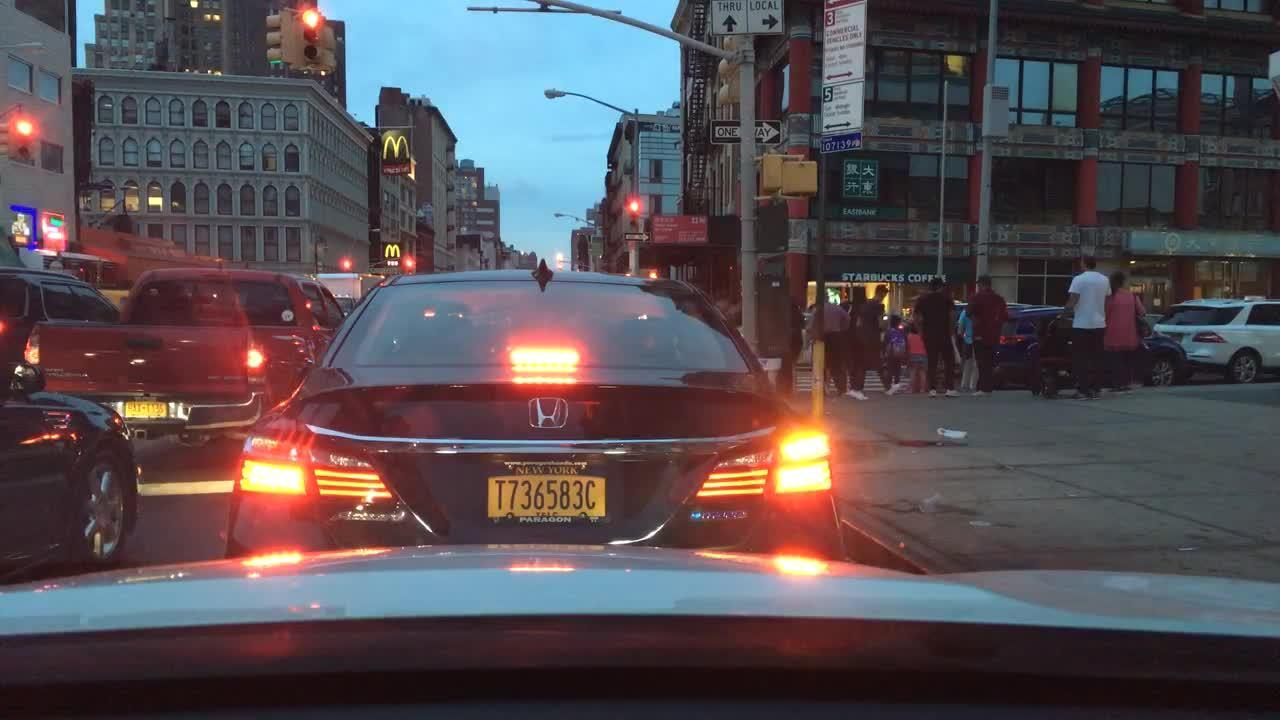Honda: (517, 383, 585, 442)
